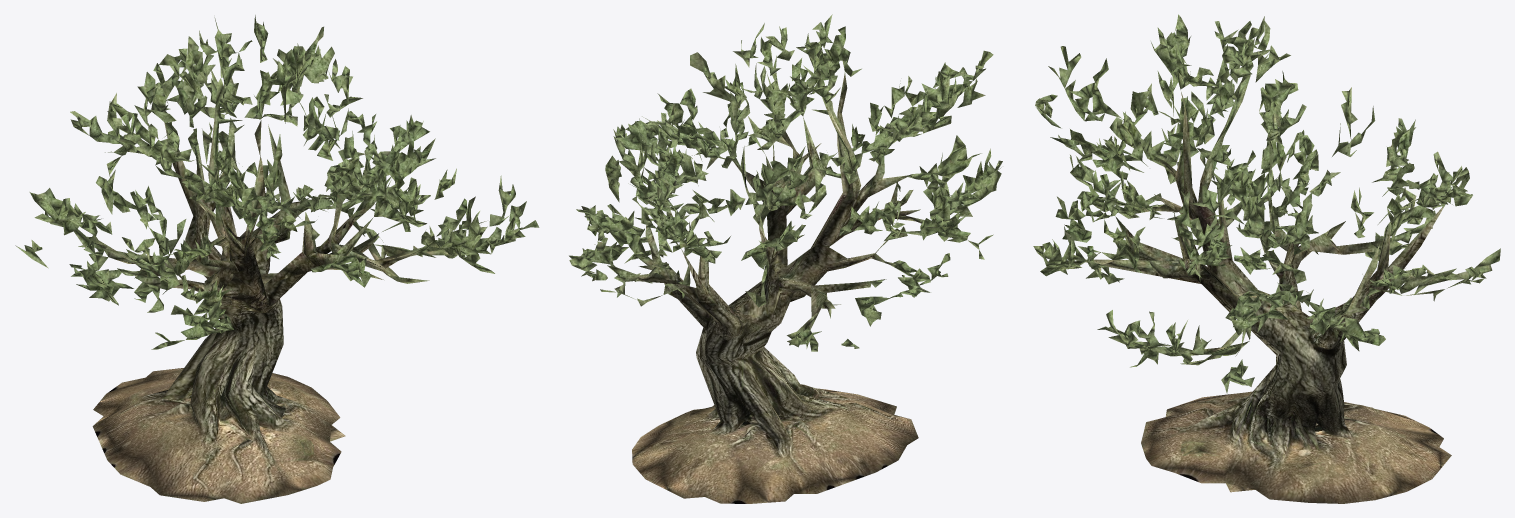
Rendered from kit_balikesir_olive_tree.glb.
3 renders of one model, left to right at view 1: azimuth 30°, elevation 25°; view 2: azimuth 150°, elevation 25°; view 3: azimuth 270°, elevation 25°, orthographic. The views are drawn at different scales.
Parts seen in each view (by area): view 1: Mesh1.0; view 2: Mesh1.0; view 3: Mesh1.0.
Part boxes in pixels (left/top/right/bottom): Mesh1.0: left=15, top=15, right=539, bottom=503; Mesh1.0: left=569, top=14, right=1002, bottom=503; Mesh1.0: left=1033, top=14, right=1500, bottom=503.
Bounding box in the file's own units: 5.65 × 5.5 × 5.51.
Materials: 1 (1 with a texture image).
